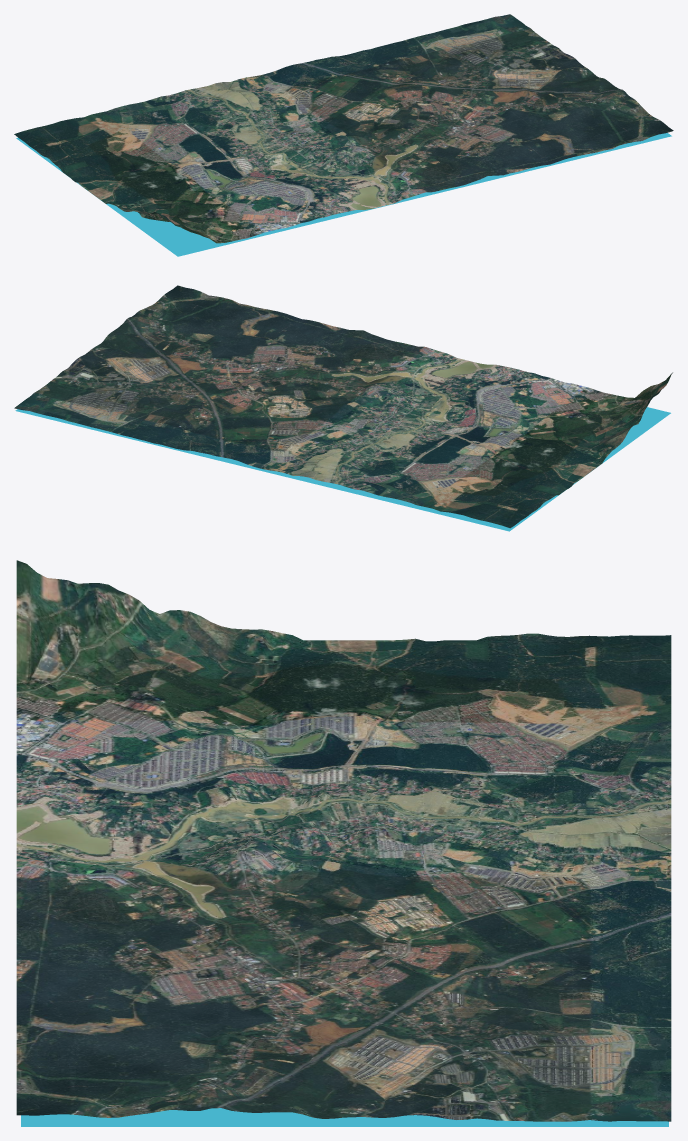
The model's file is 马六甲洪灾.glb.
3 renders of one model, top to bottom at view 1: azimuth 30°, elevation 25°; view 2: azimuth 150°, elevation 25°; view 3: azimuth 270°, elevation 25°, orthographic. The views are drawn at different scales.
Parts seen in each view (by area): view 1: EXPORT_GOOGLE_SAT_WM, Plane; view 2: EXPORT_GOOGLE_SAT_WM, Plane; view 3: EXPORT_GOOGLE_SAT_WM, Plane.
Part boxes in pixels (<box>): EXPORT_GOOGLE_SAT_WM: <box>14,14,673,243</box>; Plane: <box>16,133,671,256</box>; EXPORT_GOOGLE_SAT_WM: <box>14,285,672,528</box>; Plane: <box>15,407,670,531</box>; EXPORT_GOOGLE_SAT_WM: <box>16,560,671,1121</box>; Plane: <box>21,1108,668,1126</box>.
Bounding box in the file's own units: 8561 × 684 × 4892.
Materials: 2 (1 with a texture image).
